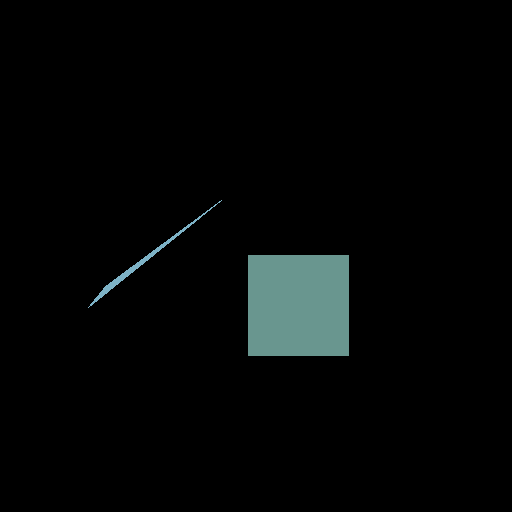square: (248, 255, 348, 355)
